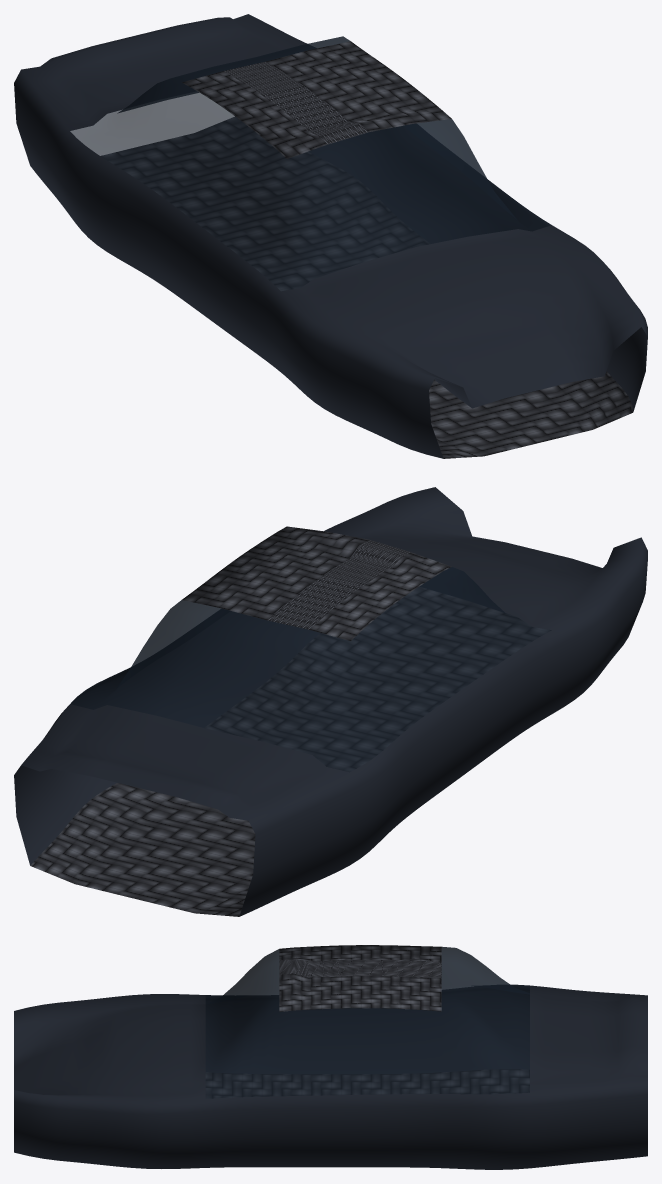
The model's file is bmw_m5.obj.
The picture shows the model from 3 angles, top to bottom: view 1: azimuth 30°, elevation 25°; view 2: azimuth 150°, elevation 25°; view 3: azimuth 270°, elevation 25°; orthographic projection. The views are drawn at different scales.
Parts seen in each view (by area): view 1: BodyPaintShell, CarbonAeroAndRoof, GreenhouseWindows; view 2: BodyPaintShell, CarbonAeroAndRoof, GreenhouseWindows; view 3: BodyPaintShell, GreenhouseWindows, CarbonAeroAndRoof.
Boxes of the visible parts, x1,y1,x2,y2 form: BodyPaintShell: (14, 14, 647, 458); CarbonAeroAndRoof: (101, 41, 633, 458); GreenhouseWindows: (70, 36, 551, 291); BodyPaintShell: (14, 487, 647, 916); CarbonAeroAndRoof: (30, 526, 551, 916); GreenhouseWindows: (70, 567, 551, 772); BodyPaintShell: (14, 985, 647, 1169); GreenhouseWindows: (205, 946, 529, 1098); CarbonAeroAndRoof: (206, 945, 529, 1098).
Bounding box in the file's own units: 2.16 × 1.33 × 4.98.
3 materials, 1 textured.
